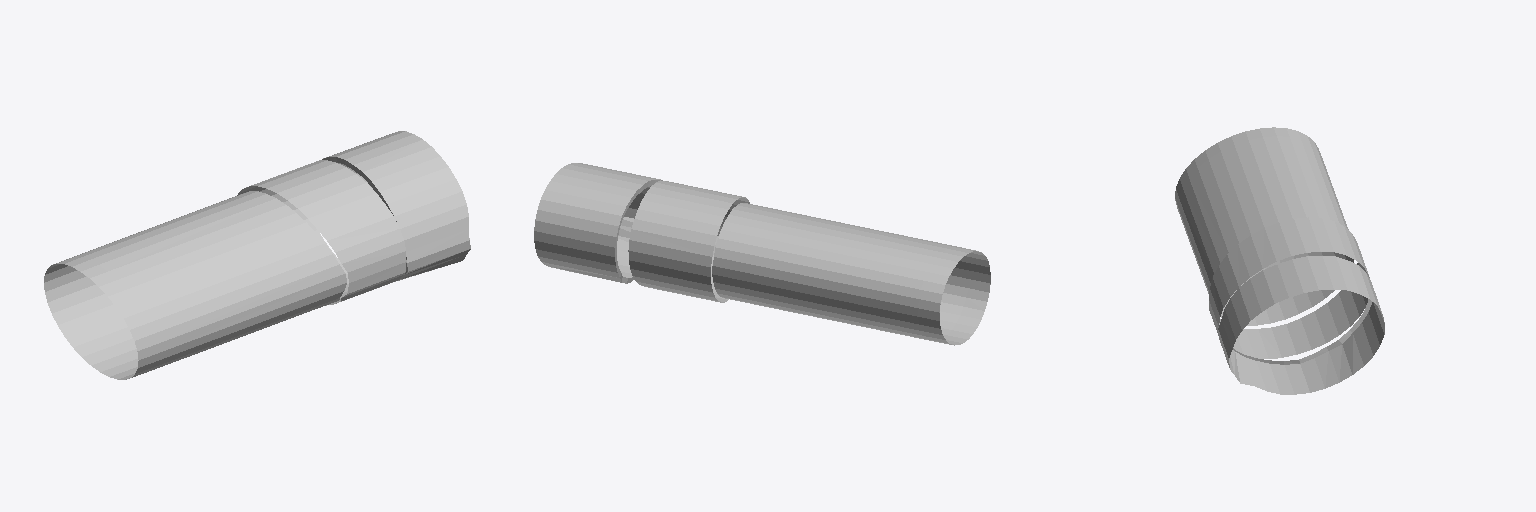
File: hiltribbon_002.obj
The picture shows the model from 3 angles: view 1: azimuth 30°, elevation 25°; view 2: azimuth 150°, elevation 25°; view 3: azimuth 270°, elevation 25°; orthographic projection.
Visible parts, largest first — view 1: hiltribbon.002; view 2: hiltribbon.002; view 3: hiltribbon.002.
Part boxes in pixels (bbox=[...]): hiltribbon.002: bbox=[44, 131, 470, 379]; hiltribbon.002: bbox=[534, 163, 990, 345]; hiltribbon.002: bbox=[1175, 127, 1384, 394].
Bounding box in the file's own units: 17.55 × 4.96 × 8.32.